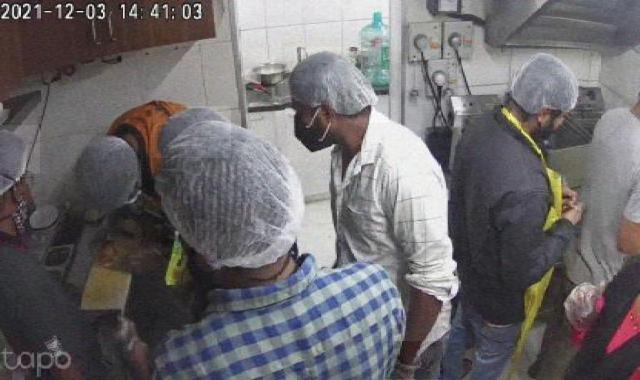apron: (554, 276, 617, 330), (4, 174, 46, 235), (383, 341, 443, 380)
gloves: (161, 118, 309, 264), (285, 48, 388, 124), (67, 135, 142, 213), (510, 49, 582, 125), (153, 106, 231, 158), (0, 125, 40, 203)
mask: (287, 114, 345, 163)
no_apron: (556, 178, 591, 230)
